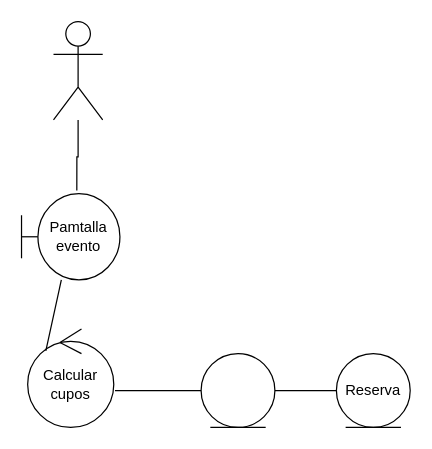
This 432x449 diagram has some shape labels left out. Each missing label, with the centre of its shape:
"Estudiante" goes at (x=77, y=70).
"Evento" goes at (x=237, y=389).
